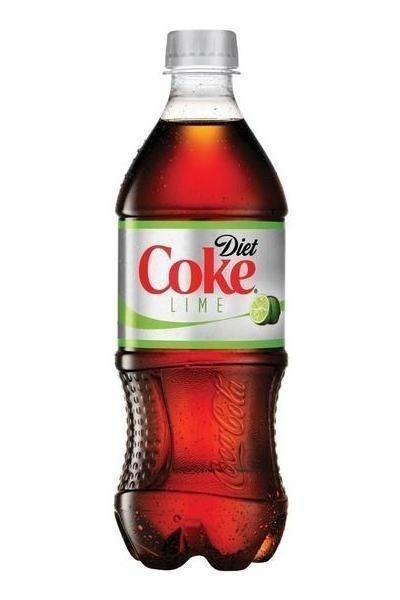bottle-plastic: (110, 22, 292, 578)
